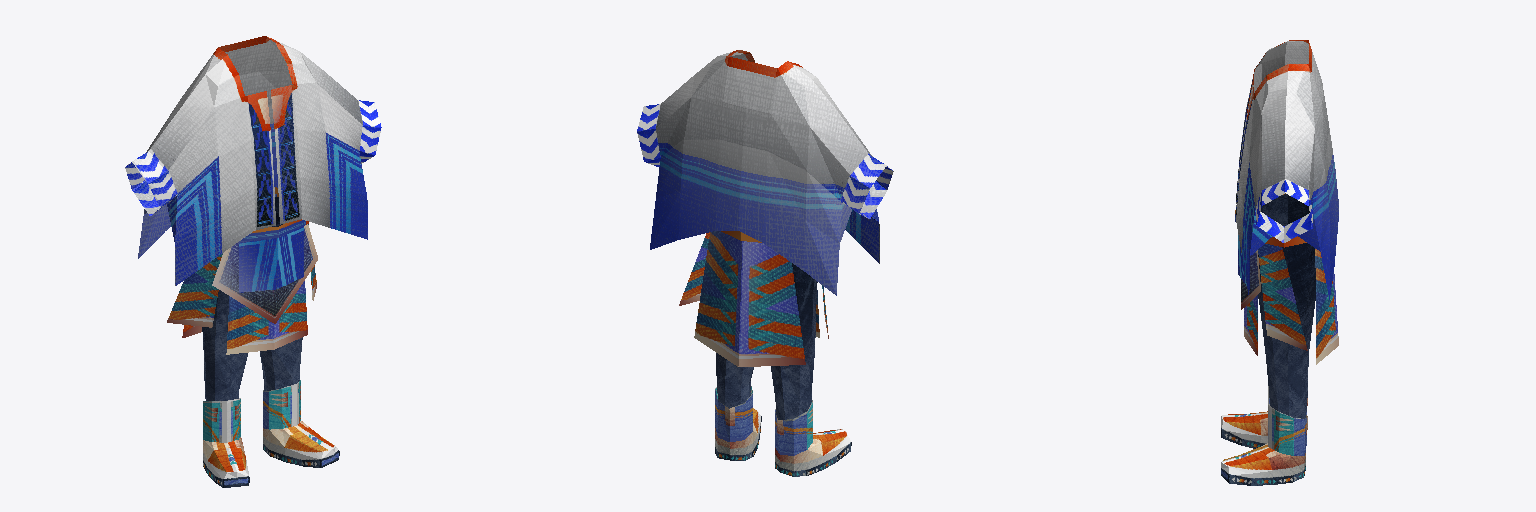
3 views of the same model, side by side, from view 1: azimuth 30°, elevation 25°; view 2: azimuth 150°, elevation 25°; view 3: azimuth 270°, elevation 25° (orthographic).
Parts seen in each view (by area): view 1: cloth, pant, shoe_L, shoe_R, apron_01, apron_03, apron_02, apron_04_R, belt; view 2: cloth, apron_05, pant, shoe_R, shoe_L, apron_04_L; view 3: cloth, pant, shoe_L, apron_04_L, apron_05, shoe_R, apron_03, apron_02.
Part boxes in pixels (left/top/right/bottom): cloth: left=125, top=36, right=381, bottom=285; pant: left=202, top=197, right=302, bottom=400; shoe_L: left=263, top=380, right=339, bottom=467; shoe_R: left=203, top=398, right=249, bottom=487; apron_01: left=239, top=226, right=303, bottom=292; apron_03: left=226, top=281, right=307, bottom=354; apron_02: left=212, top=224, right=317, bottom=323; apron_04_R: left=167, top=253, right=222, bottom=327; belt: left=241, top=187, right=308, bottom=240; cloth: left=637, top=50, right=893, bottom=295; apron_05: left=694, top=231, right=805, bottom=366; pant: left=716, top=263, right=817, bottom=419; shoe_R: left=775, top=400, right=851, bottom=476; shoe_L: left=715, top=386, right=761, bottom=460; apron_04_L: left=679, top=232, right=709, bottom=305; cloth: left=1236, top=40, right=1338, bottom=299; pant: left=1258, top=194, right=1315, bottom=418; shoe_L: left=1221, top=404, right=1307, bottom=485; apron_04_L: left=1258, top=244, right=1307, bottom=350; apron_05: left=1315, top=248, right=1338, bottom=364; shoe_R: left=1221, top=386, right=1307, bottom=448; apron_03: left=1244, top=295, right=1257, bottom=355; apron_02: left=1241, top=250, right=1260, bottom=309.
Size of the model in its own units: 426 by 683 by 180.
Materials: 1 (1 with a texture image).